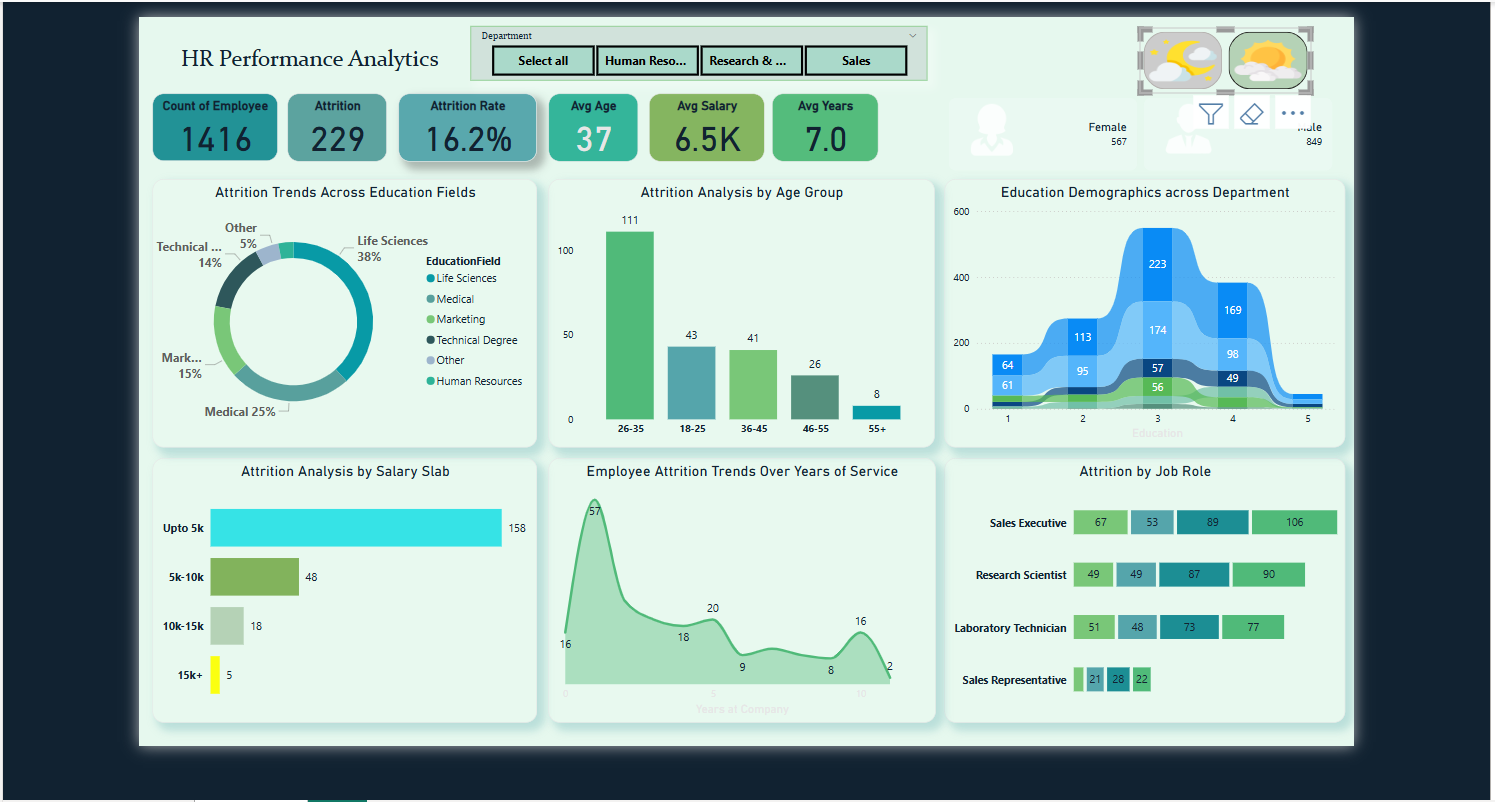

Layout of this report page (visuals, bound fields, positions):
{"tool":"powerbi","page":{"name":"Page 1","canvas":[1500,900],"ordinal":0},"visuals":[{"type":"shape","box":[0,0,1500,900],"z":0},{"type":"card","title":"Count of Employee","fields":{"Values":["CountNonNull(HR_Analytics.EmpID)"]},"box":[16,94,154.4,83.4],"z":1000},{"type":"card","title":"Attrition","fields":{"Values":["Sum(HR_Analytics.AttritionCount)"]},"box":[183,93.6,122.9,83.8],"z":2000},{"type":"card","title":"Attrition Rate","fields":{"Values":["HR_Analytics.AttritionRate"]},"box":[321.3,93.6,170.4,83.8],"z":3000},{"type":"card","title":"Avg Age","fields":{"Values":["Avg(HR_Analytics.Age)"]},"box":[505.7,93.6,110.4,83.8],"z":4000},{"type":"card","title":"Avg Salary","fields":{"Values":["Avg(HR_Analytics.MonthlyIncome)"]},"box":[630,93.6,142.5,83.8],"z":5000},{"type":"card","title":"Avg Years","fields":{"Values":["Avg(HR_Analytics.YearsAtCompany)"]},"box":[782.3,93.6,131.3,83.8],"z":6000},{"type":"donutChart","title":"Attrition Trends Across Education Fields","fields":{"Category":["HR_Analytics.EducationField"],"Y":["Sum(HR_Analytics.AttritionCount)"]},"box":[16.8,199.8,474.9,331.1],"z":7000},{"type":"columnChart","title":"Attrition Analysis by Age Group","fields":{"Category":["HR_Analytics.AgeGroup"],"Y":["Sum(HR_Analytics.AttritionCount)"]},"box":[505.7,199.8,476.3,331.1],"z":8000},{"type":"barChart","title":"Attrition Analysis by Salary Slab","fields":{"Category":["HR_Analytics.SalarySlab"],"Y":["Sum(HR_Analytics.AttritionCount)"]},"box":[16.8,544.8,474.9,326.9],"z":9000},{"type":"barChart","title":"Attrition by Job Role","fields":{"Y":["CountNonNull(HR_Analytics.JobRole)"],"Series":["HR_Analytics.JobSatisfaction"],"Category":["HR_Analytics.JobRole"]},"box":[994.6,544.8,494.5,326.9],"z":10000},{"type":"areaChart","title":"Employee Attrition Trends Over Years of Service","fields":{"Category":["HR_Analytics.YearsAtCompany"],"Y":["Sum(HR_Analytics.AttritionCount)"]},"box":[505.7,544.8,477.7,326.9],"z":11000},{"type":"slicer","fields":{"Values":["HR_Analytics.Department"]},"box":[409.3,11.2,564.3,67.4],"z":12000},{"type":"ribbonChart","title":"Education Demographics across Department ","fields":{"Category":["HR_Analytics.Education"],"Y":["CountNonNull(HR_Analytics.Department)"],"Series":["HR_Analytics.EducationField"]},"box":[994.6,199.8,494.5,331.1],"z":13000},{"type":"image","box":[1260.2,102.3,73.4,71.9],"z":14000},{"type":"image","box":[1012.5,102.3,79.7,74.2],"z":15000},{"type":"advancedSlicerVisual","fields":{"Values":["HR_Analytics.Gender"]},"box":[994,94,484,100],"z":16000},{"type":"advancedSlicerVisual","fields":{"Values":["Dark_Mode.Label"]},"box":[1235.4,12.5,212.5,81.2],"z":17000},{"type":"shape","box":[27.4,11.3,366.1,79],"z":18000}]}

Visuals, with their boxes on the page's 1500x900 design canvas (x1, y1, x2, y2). These are canvas units, not pixel positions in the 1495x802 screenshot, which may show the page scaled, cropped or inside an application window:
shape: box=[0, 0, 1500, 900]
"Count of Employee" card: box=[16, 94, 170, 177]
"Attrition" card: box=[183, 94, 306, 177]
"Attrition Rate" card: box=[321, 94, 492, 177]
"Avg Age" card: box=[506, 94, 616, 177]
"Avg Salary" card: box=[630, 94, 772, 177]
"Avg Years" card: box=[782, 94, 914, 177]
"Attrition Trends Across Education Fields" donutChart: box=[17, 200, 492, 531]
"Attrition Analysis by Age Group" columnChart: box=[506, 200, 982, 531]
"Attrition Analysis by Salary Slab" barChart: box=[17, 545, 492, 872]
"Attrition by Job Role" barChart: box=[995, 545, 1489, 872]
"Employee Attrition Trends Over Years of Service" areaChart: box=[506, 545, 983, 872]
slicer - HR_Analytics.Department: box=[409, 11, 974, 79]
"Education Demographics across Department " ribbonChart: box=[995, 200, 1489, 531]
image: box=[1260, 102, 1334, 174]
image: box=[1012, 102, 1092, 176]
advancedSlicerVisual - HR_Analytics.Gender: box=[994, 94, 1478, 194]
advancedSlicerVisual - Dark_Mode.Label: box=[1235, 12, 1448, 94]
shape: box=[27, 11, 394, 90]
